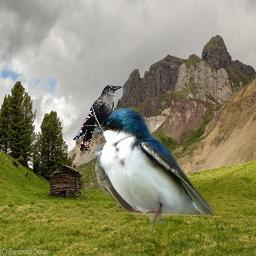Crow: (73, 84, 123, 151)
Swallow: (91, 106, 216, 233)
